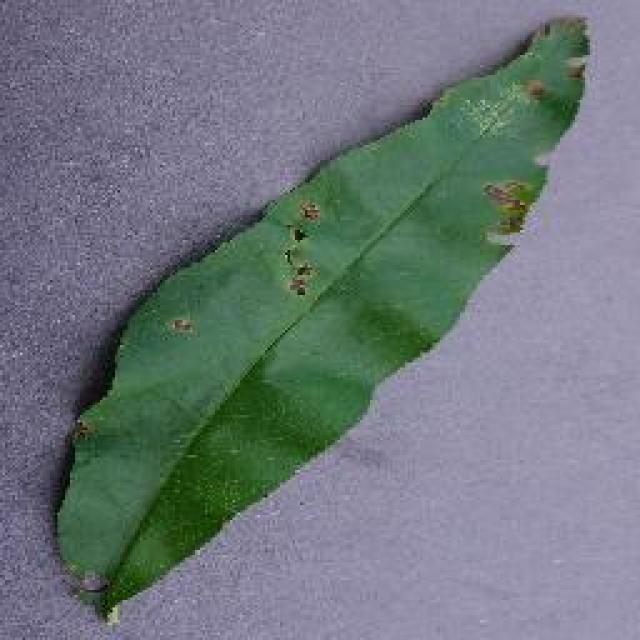Peach_Bacterial_Spot: (250, 160, 490, 325)
